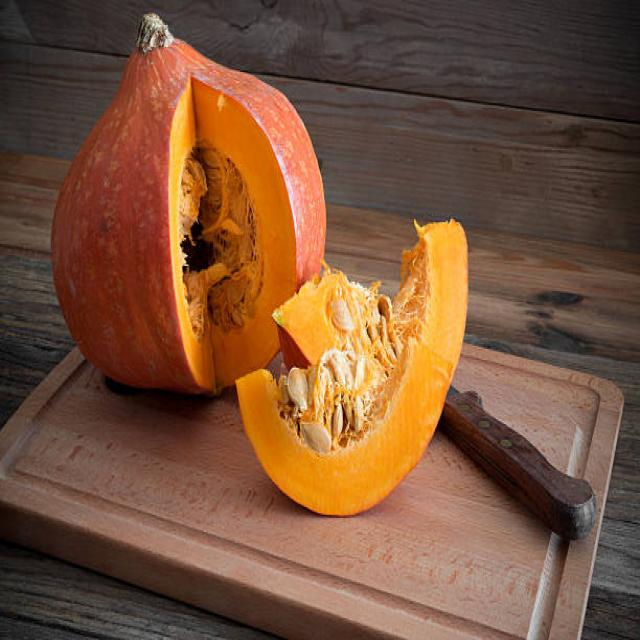Pumpkin: (49, 15, 281, 382), (237, 204, 470, 517)
